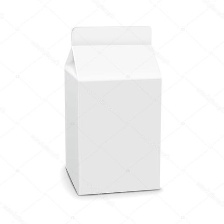carton: (50, 18, 169, 199)
